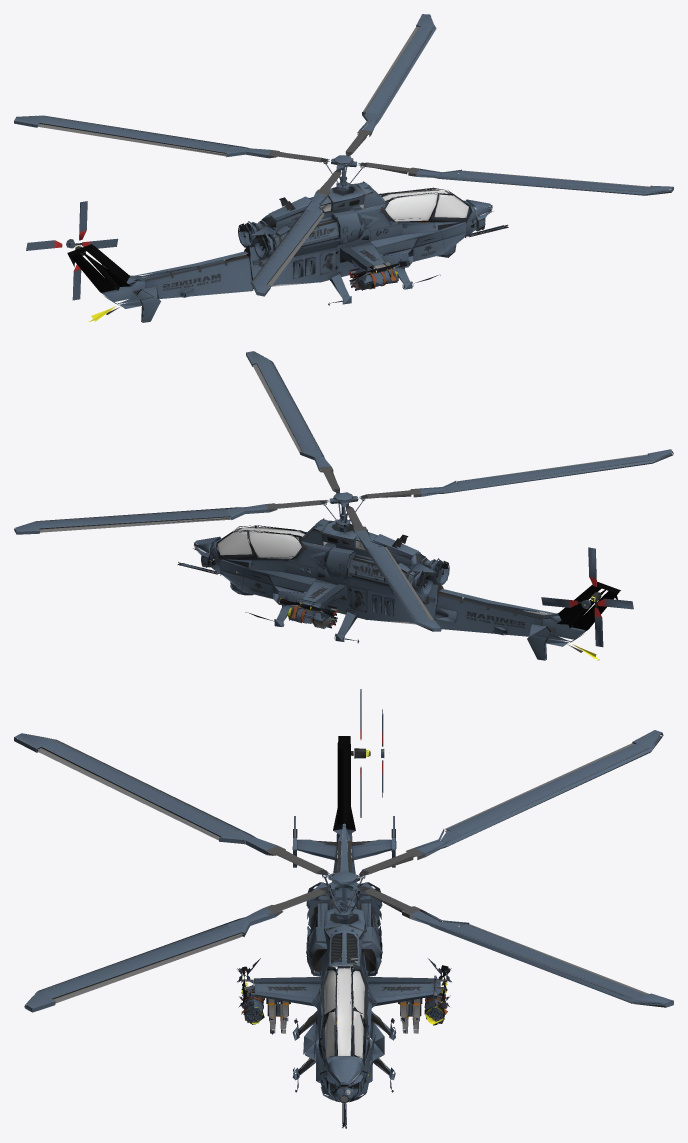
3 views of the same model, one above another, from view 1: azimuth 30°, elevation 25°; view 2: azimuth 150°, elevation 25°; view 3: azimuth 270°, elevation 25° (orthographic). The views are drawn at different scales.
Visible parts, largest first — view 1: g_ah1z_hull, g_ah1z_rotor, g_ah1z_rotor2; view 2: g_ah1z_hull, g_ah1z_rotor, g_ah1z_rotor2; view 3: g_ah1z_hull, g_ah1z_rotor.
Boxes of the visible parts, <box> form: g_ah1z_hull: <box>67,168,508,322</box>; g_ah1z_rotor: <box>14,14,673,296</box>; g_ah1z_rotor2: <box>26,201,118,300</box>; g_ah1z_hull: <box>177,505,620,660</box>; g_ah1z_rotor: <box>14,351,673,631</box>; g_ah1z_rotor2: <box>541,547,633,647</box>; g_ah1z_hull: <box>237,736,451,1128</box>; g_ah1z_rotor: <box>14,730,673,1012</box>.
Bounding box in the file's own units: 17.8 × 4.7 × 14.73.
Materials: 3 (3 with a texture image).
